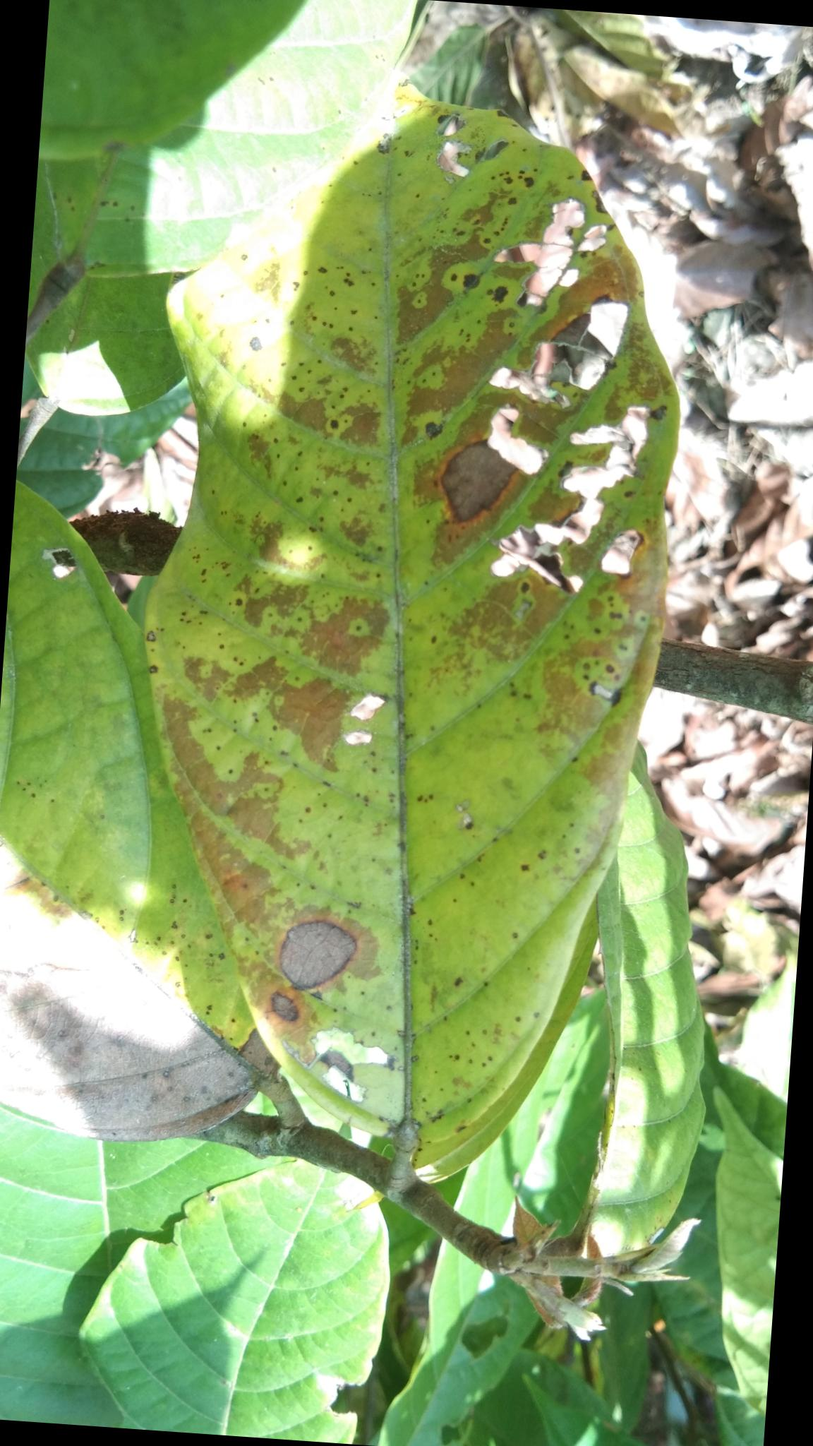Potasio: (115, 87, 687, 1206)
